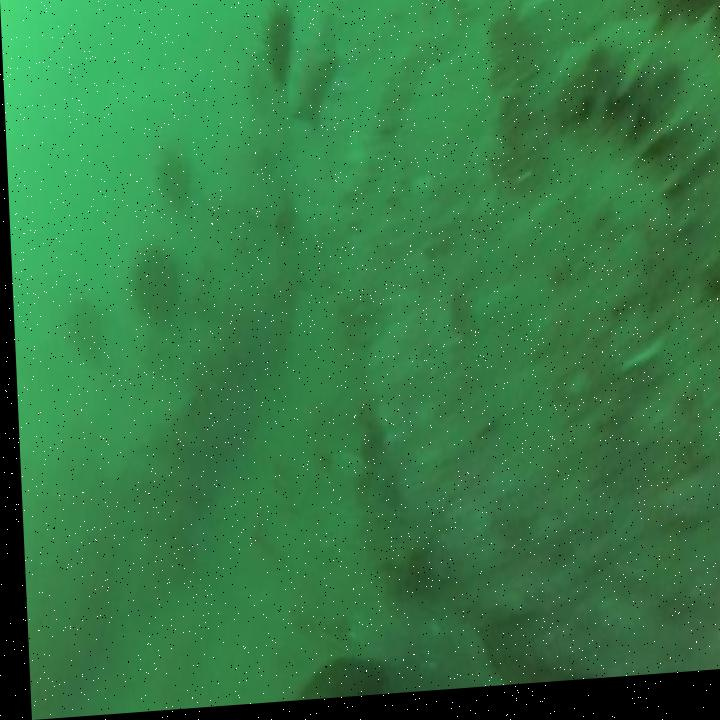echinus: (248, 0, 297, 98), (125, 237, 176, 327), (65, 291, 105, 370), (152, 137, 191, 217)
holothurian: (550, 18, 710, 249)
starfish: (284, 6, 339, 135)
